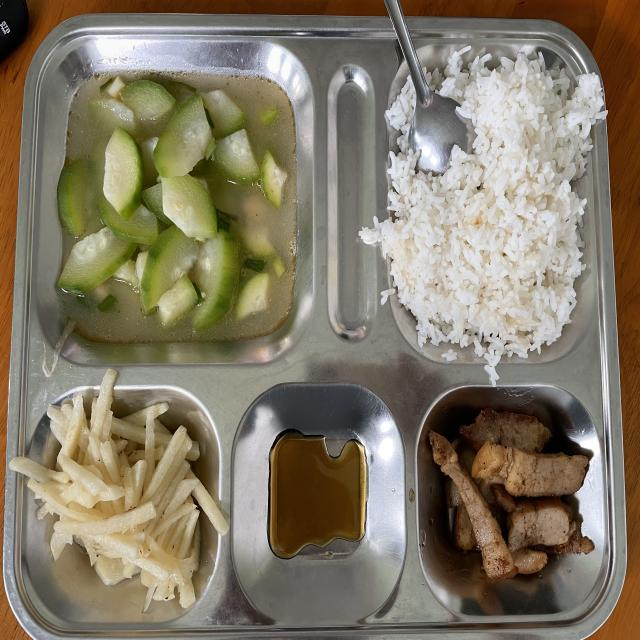com_trang: (398, 60, 598, 346)
thit_kho: (436, 412, 604, 600)
